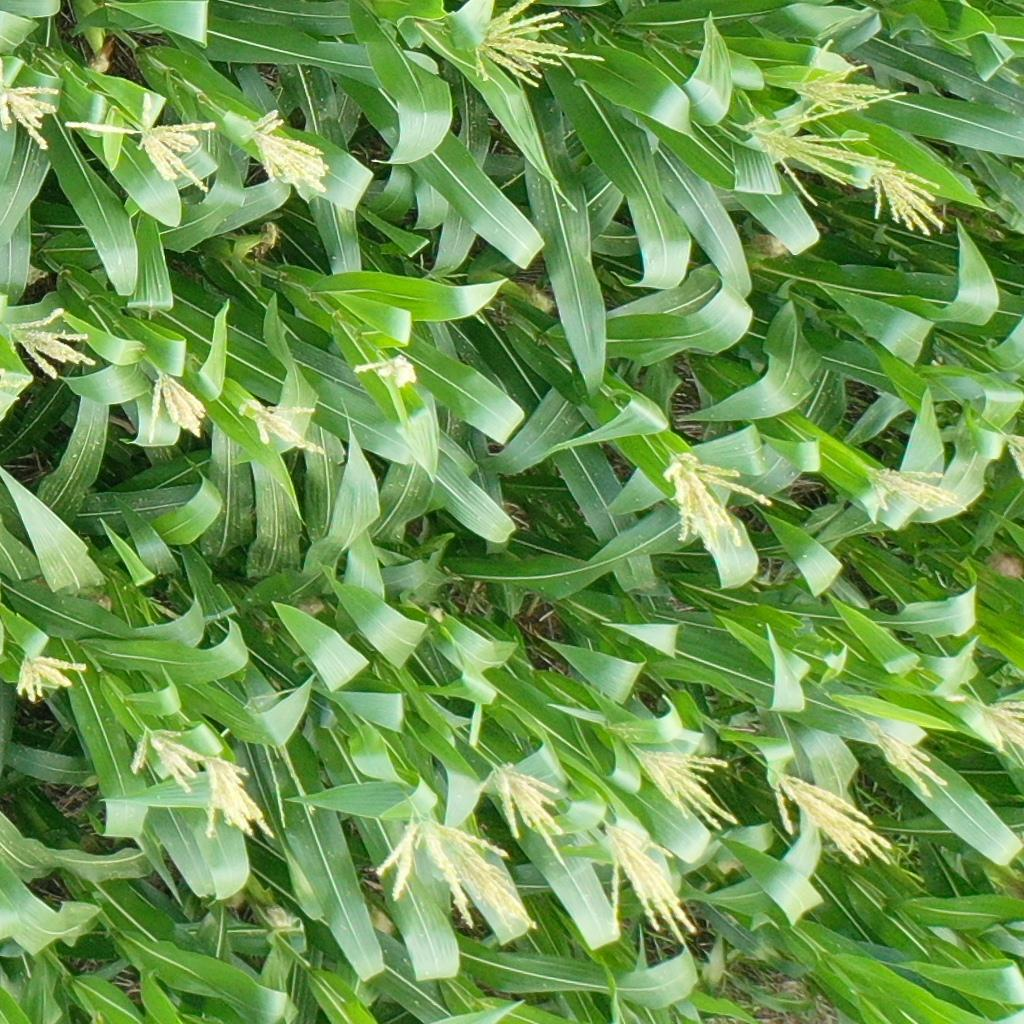Tassel: (377, 805, 539, 933), (740, 89, 908, 209), (63, 88, 220, 196), (767, 766, 897, 870), (599, 819, 701, 945), (466, 1, 607, 89), (659, 451, 774, 553), (626, 743, 740, 833), (487, 760, 570, 861), (239, 106, 330, 197), (859, 713, 950, 802), (791, 38, 890, 113), (3, 307, 98, 381), (872, 161, 953, 241), (203, 755, 278, 841), (235, 395, 330, 457), (861, 465, 969, 516), (128, 725, 205, 795), (146, 369, 211, 448), (1, 80, 60, 152), (14, 654, 89, 705), (351, 347, 422, 393), (988, 696, 1024, 754), (1003, 432, 1024, 481), (1, 366, 34, 396)
